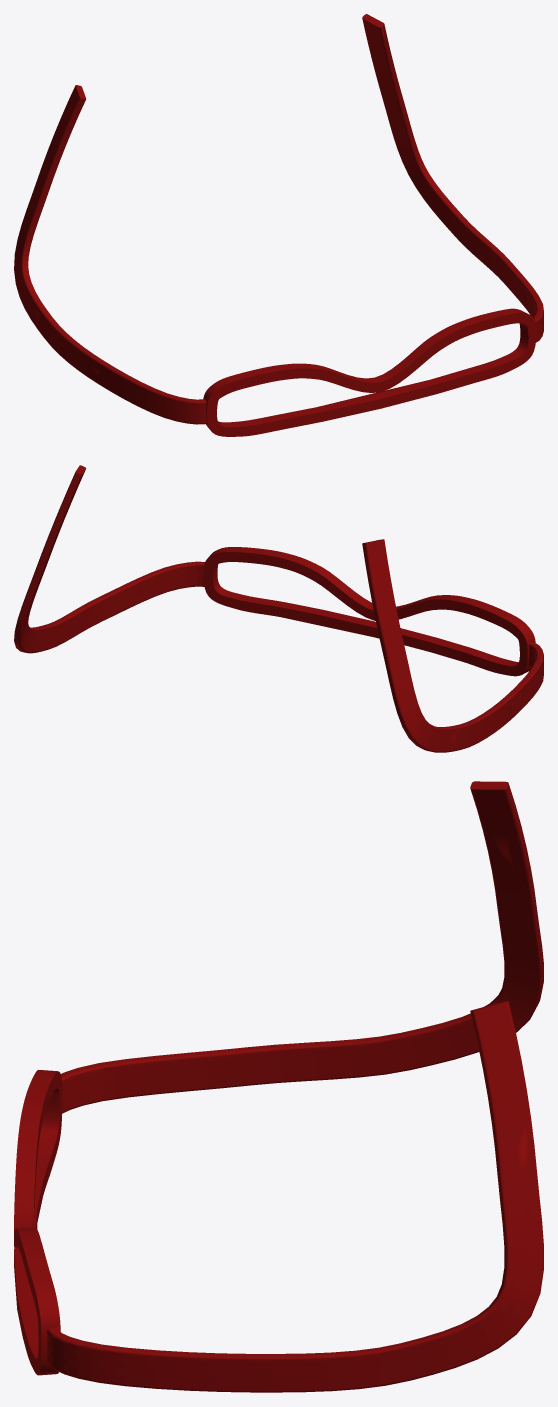
File: glass_print_2-18.obj
The picture shows the model from 3 angles, top to bottom: view 1: azimuth 30°, elevation 25°; view 2: azimuth 150°, elevation 25°; view 3: azimuth 270°, elevation 25°; orthographic projection. The views are drawn at different scales.
Visible parts, largest first — view 1: Line021; view 2: Line021; view 3: Line021.
Boxes of the visible parts, box(x1,y1,x2,y2) form: Line021: box(14, 14, 543, 436); Line021: box(14, 465, 543, 752); Line021: box(14, 781, 543, 1392).
Size of the model in its own units: 133 by 73.69 by 94.31.
